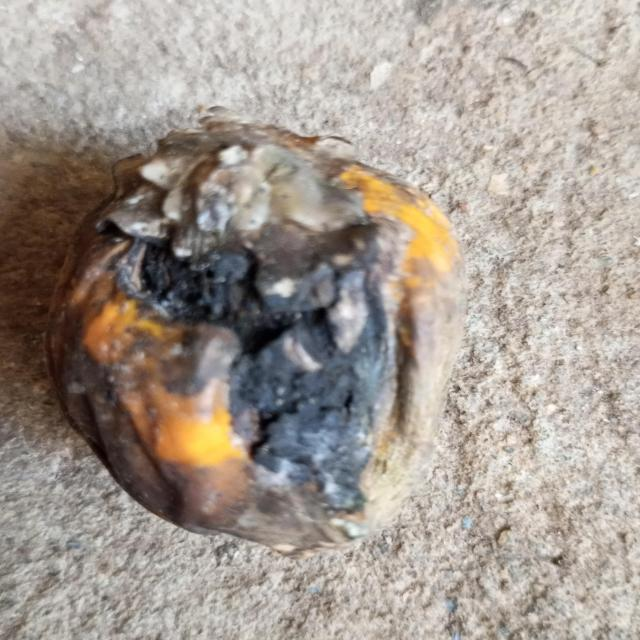damaged: (45, 119, 467, 560)
